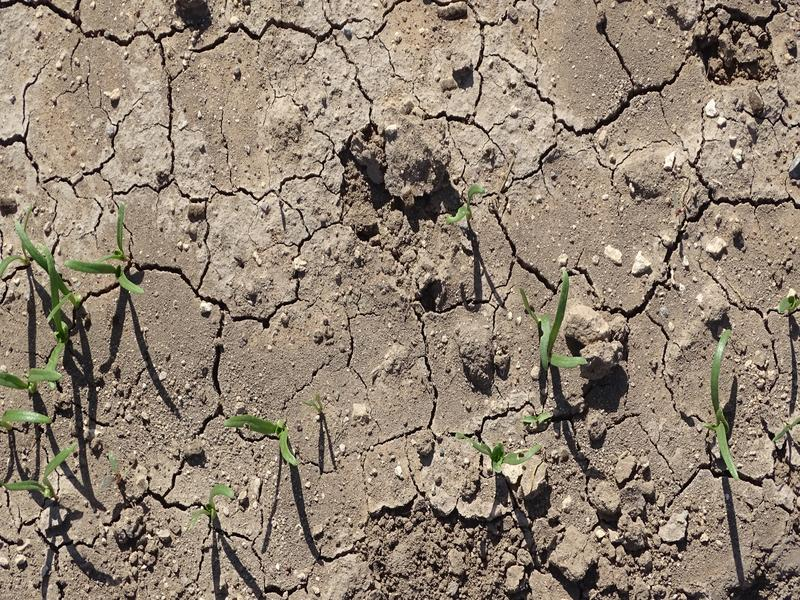Espinaca: (7, 228, 74, 423), (530, 273, 588, 373), (709, 328, 742, 482), (223, 408, 304, 466), (2, 442, 85, 494), (69, 206, 129, 275), (445, 180, 485, 225)
